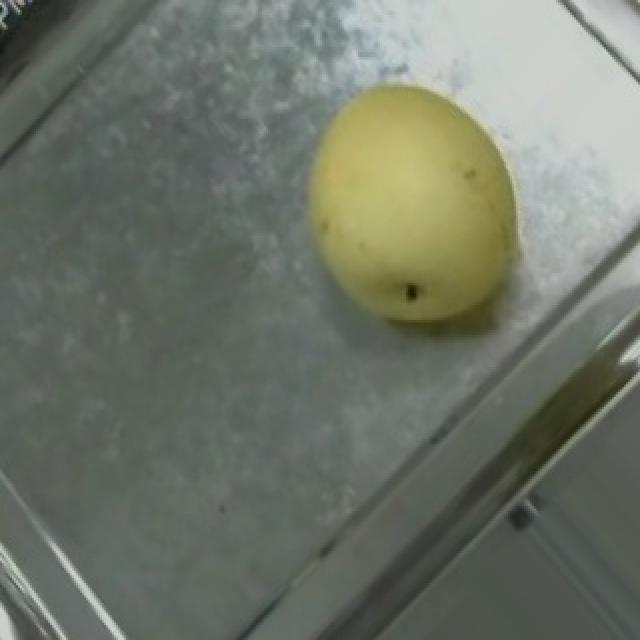Fruit: (258, 42, 580, 372)
